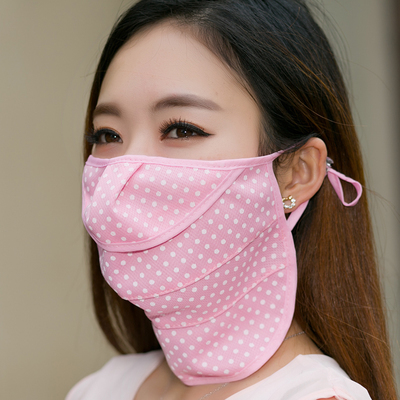face_mask: (82, 33, 266, 287)
